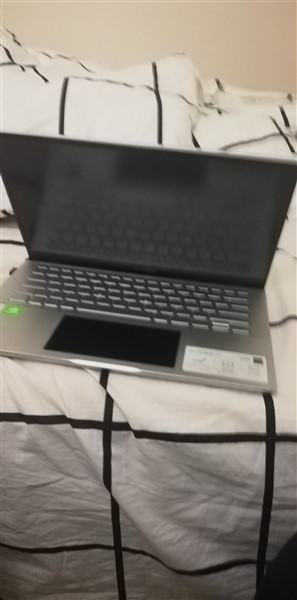laptop: (3, 127, 290, 397)
